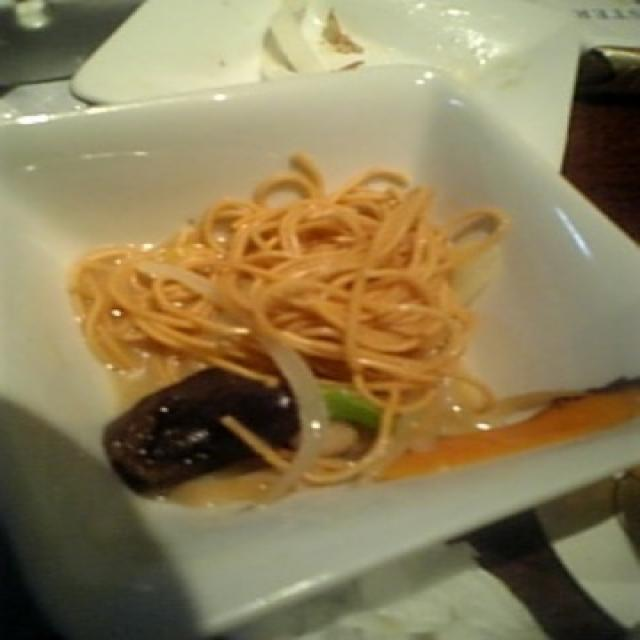Pasta: (96, 166, 503, 418)
